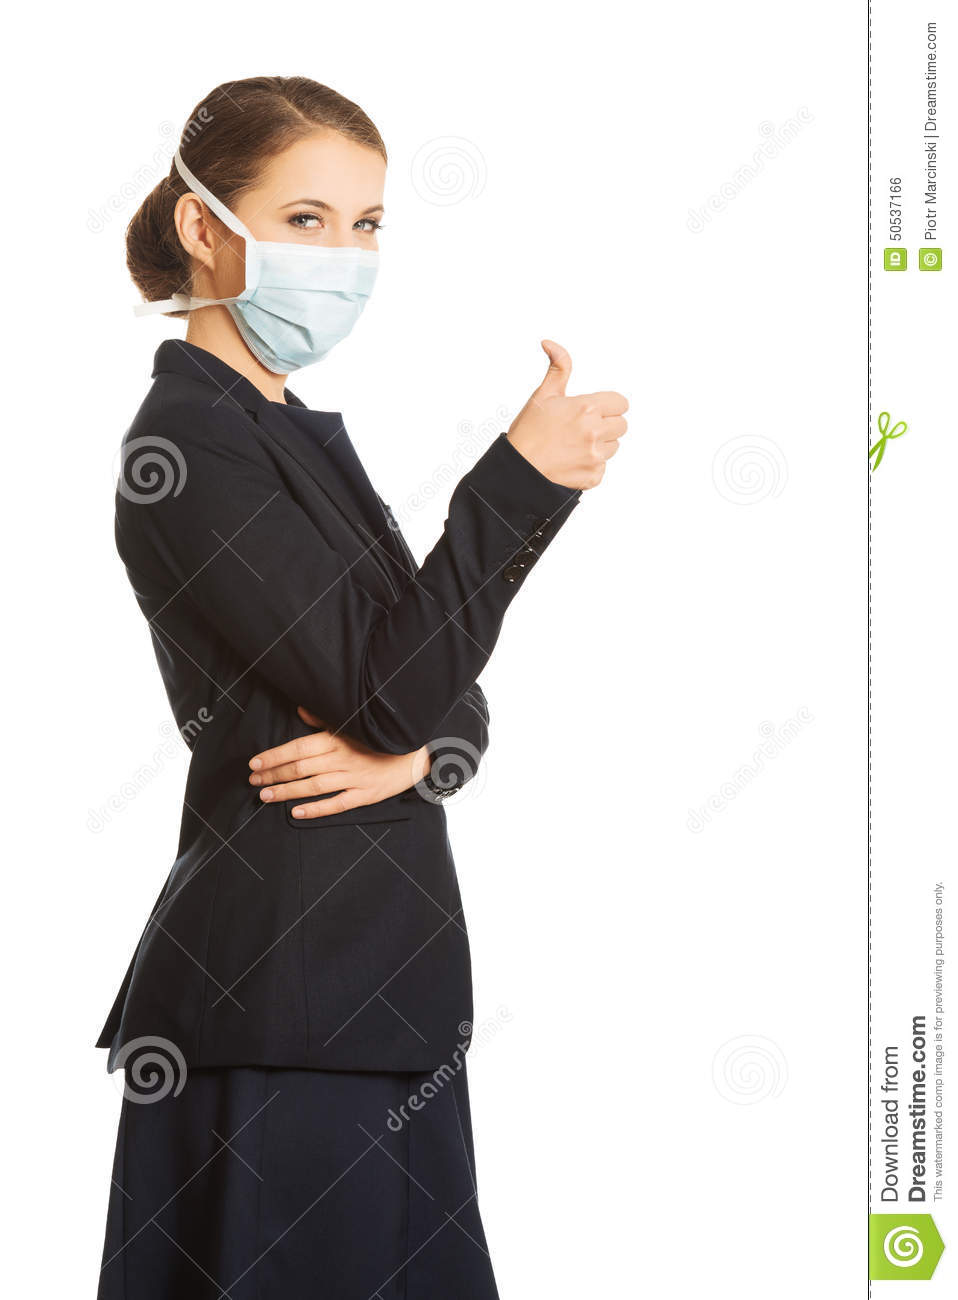mask: (232, 242, 381, 373)
